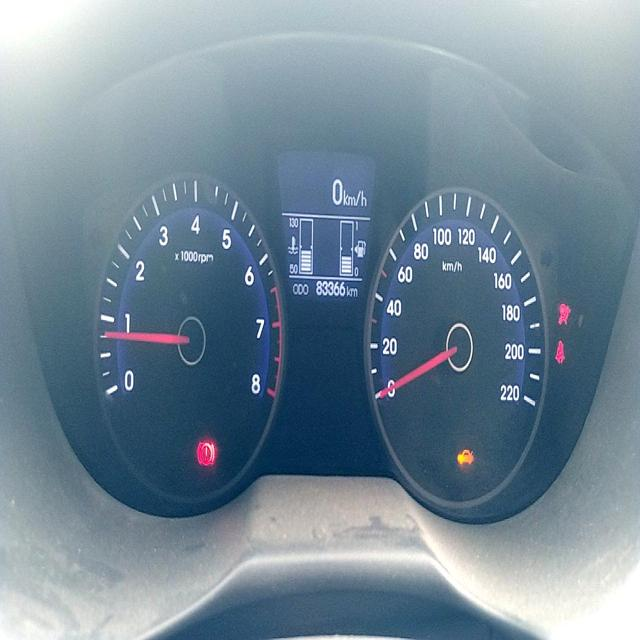odometer: (313, 277, 347, 299)
